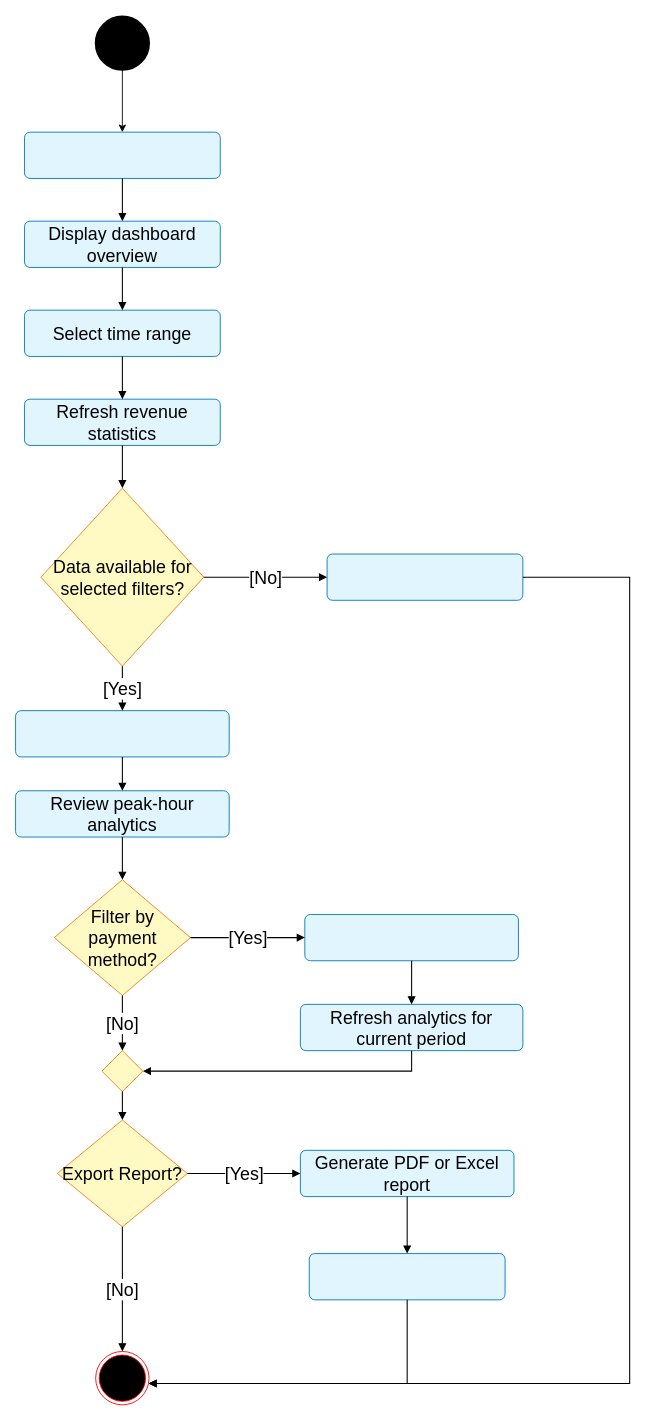
This 653x1420 diagram has some shape labels left out. Each missing label, with the box of its shape:
Apply payment-method filter: (304, 914, 518, 961)
Download report file: (308, 1253, 505, 1300)
Open "Statistics & Reports": (24, 131, 220, 178)
Review top-selling items: (15, 710, 229, 757)
Show no-data message: (326, 553, 523, 600)
